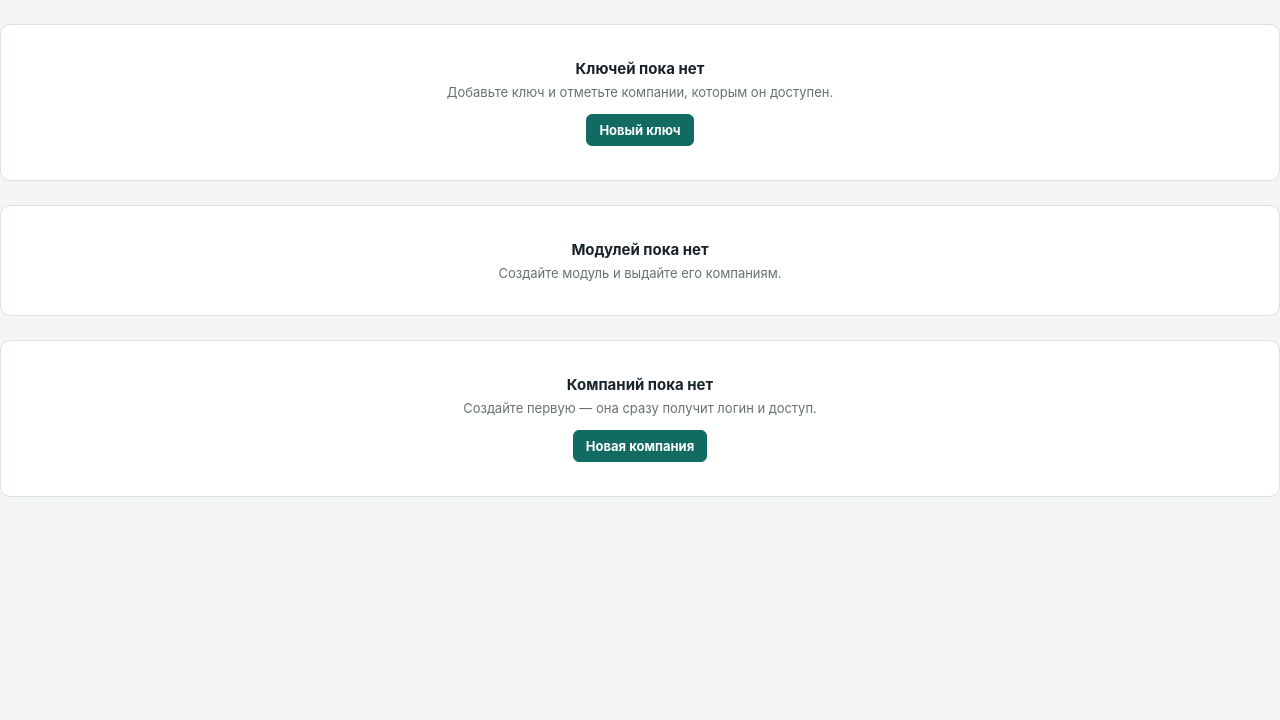
Test: dangerous actions say what happened › offers a copy button that cannot lie about copying
Click the button "Новая компания": (640, 446) x1=573 y1=430 x2=707 y2=462
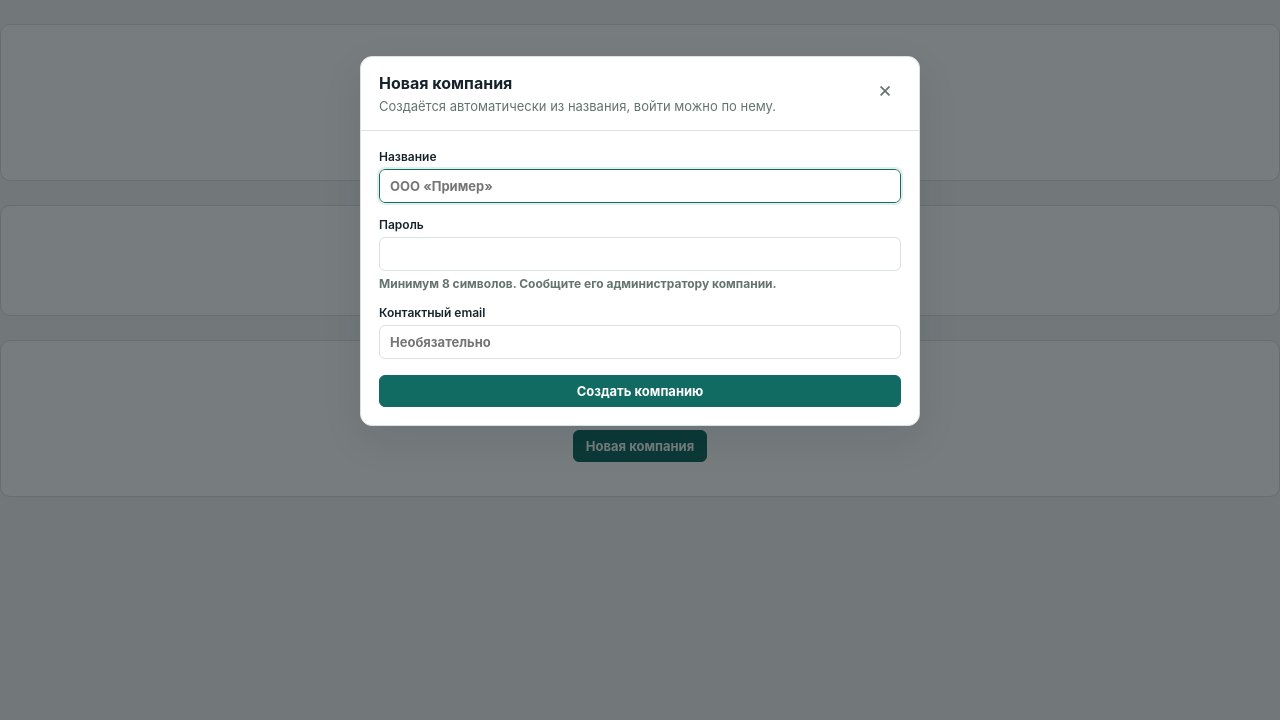
In the field labelled "Название": (640, 186) x1=379 y1=169 x2=901 y2=203, type "Beta"
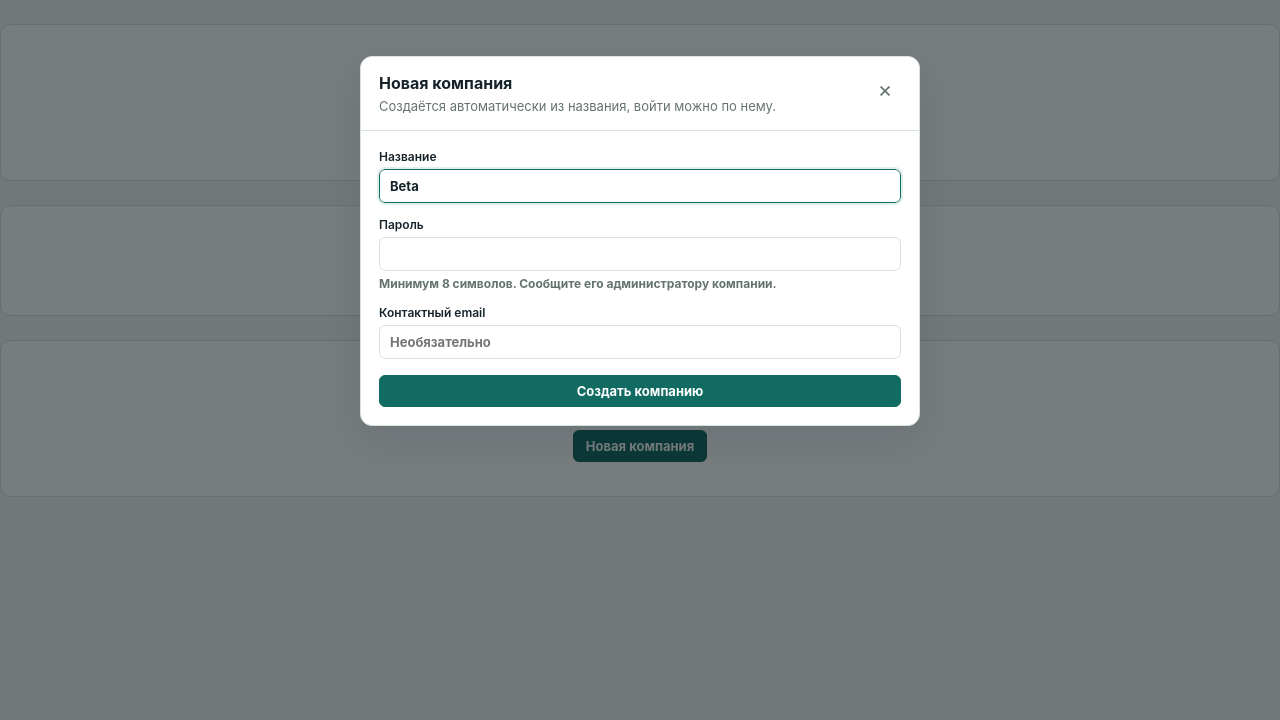
Submit the form with class "admin-form", box x1=379 y1=149 x2=901 y2=407
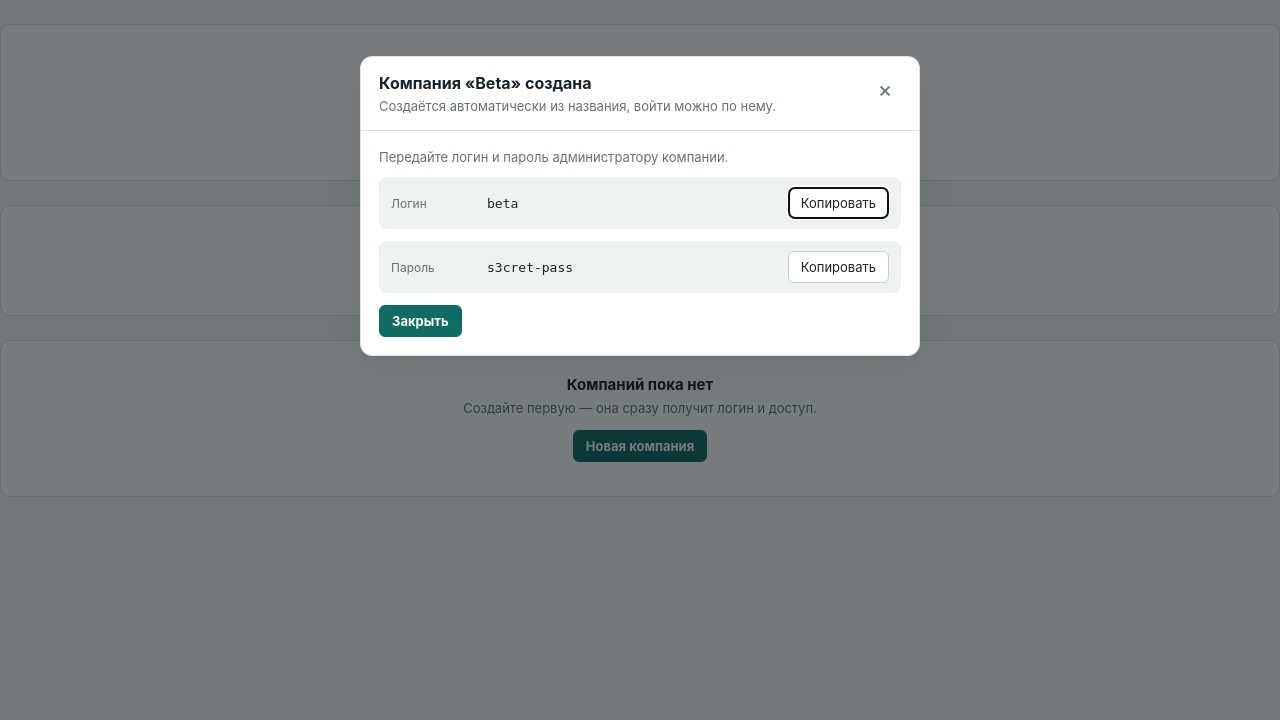
Expected: the 1st button "Копировать" is shown, x1=788 y1=187 x2=889 y2=219
